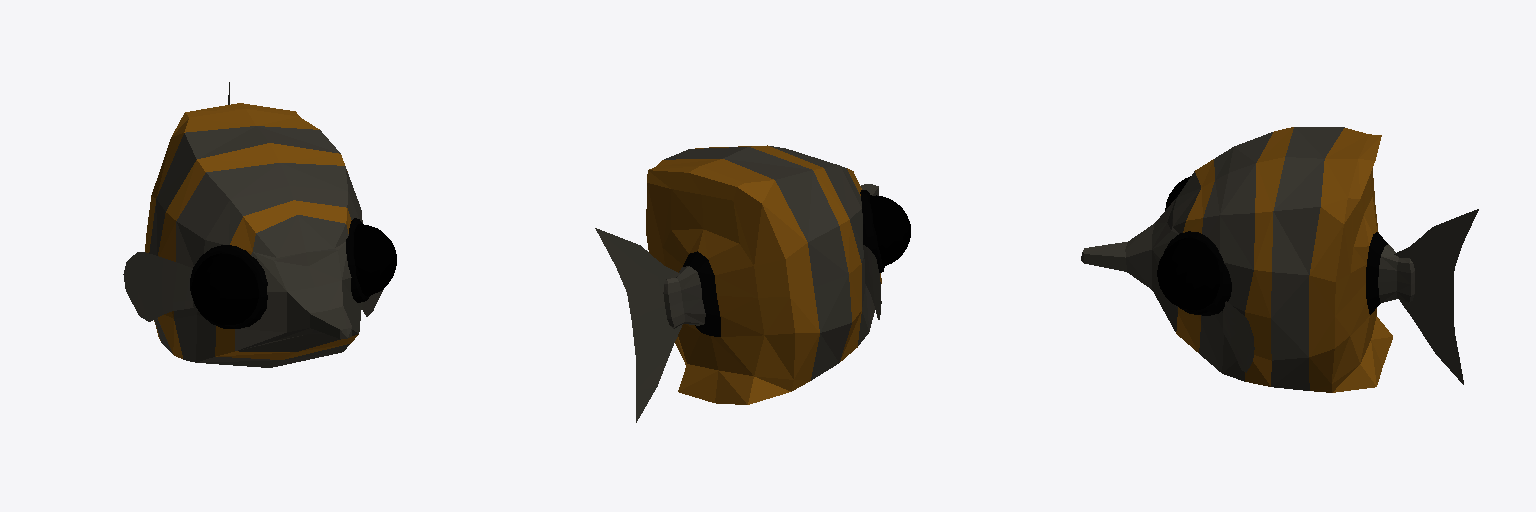
The model's file is ButterflyFish.obj.
3 renders of one model, left to right at view 1: azimuth 30°, elevation 25°; view 2: azimuth 150°, elevation 25°; view 3: azimuth 270°, elevation 25°, orthographic.
Parts seen in each view (by area): view 1: Butterflyfish_Cube.059; view 2: Butterflyfish_Cube.059; view 3: Butterflyfish_Cube.059.
Part boxes in pixels (left/top/right/bottom): Butterflyfish_Cube.059: left=123, top=82, right=396, bottom=367; Butterflyfish_Cube.059: left=595, top=145, right=910, bottom=422; Butterflyfish_Cube.059: left=1081, top=127, right=1478, bottom=392.
Bounding box in the file's own units: 3.31 × 2.87 × 4.66.